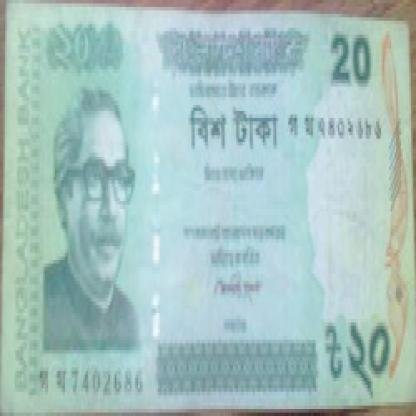Twenty: (322, 302, 394, 406), (183, 97, 285, 166), (34, 21, 132, 90), (322, 28, 379, 100)
